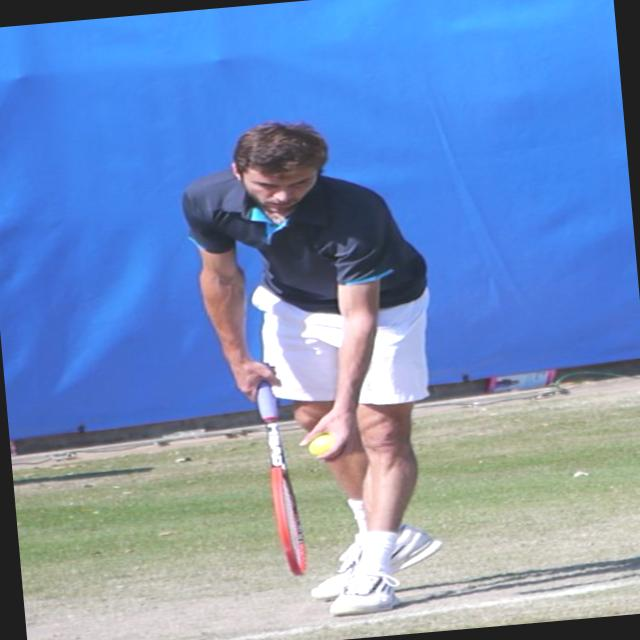Tennis Ball: (311, 434, 334, 454)
